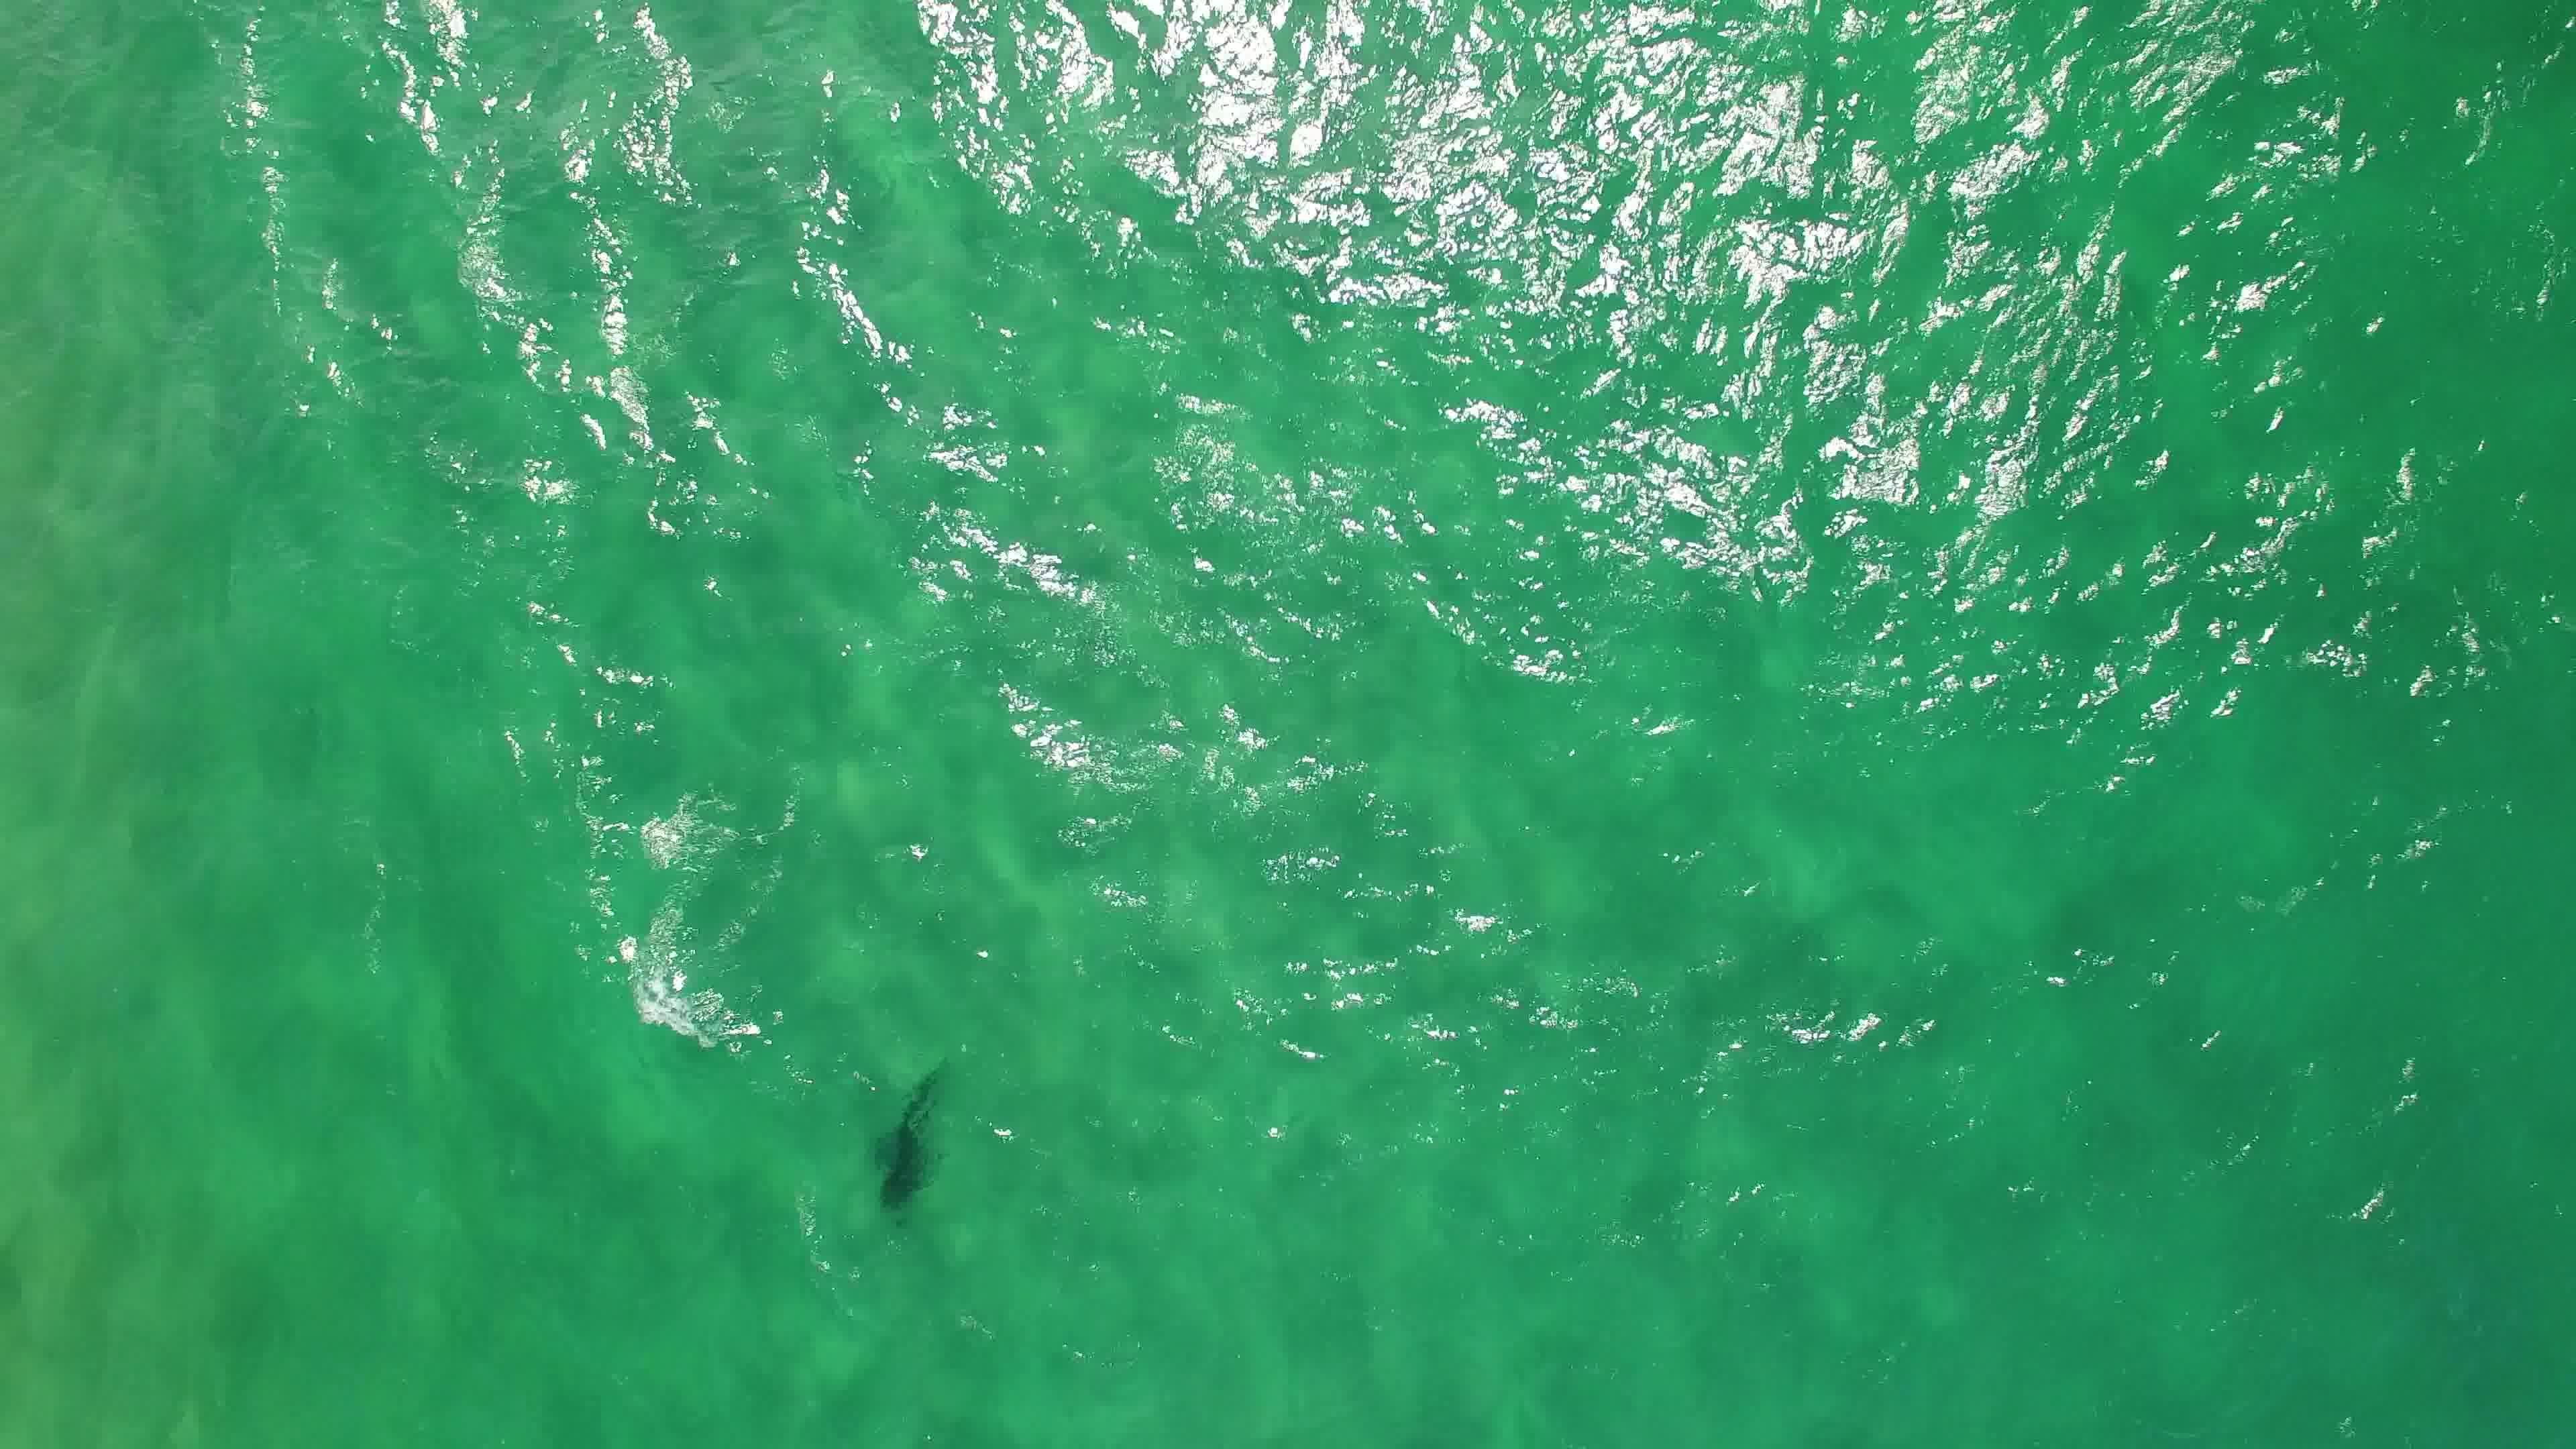shark: (869, 1054, 970, 1226)
